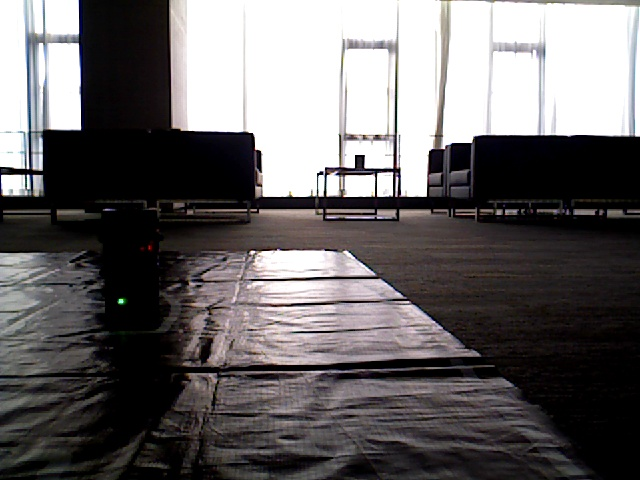green: (108, 228, 143, 315)
